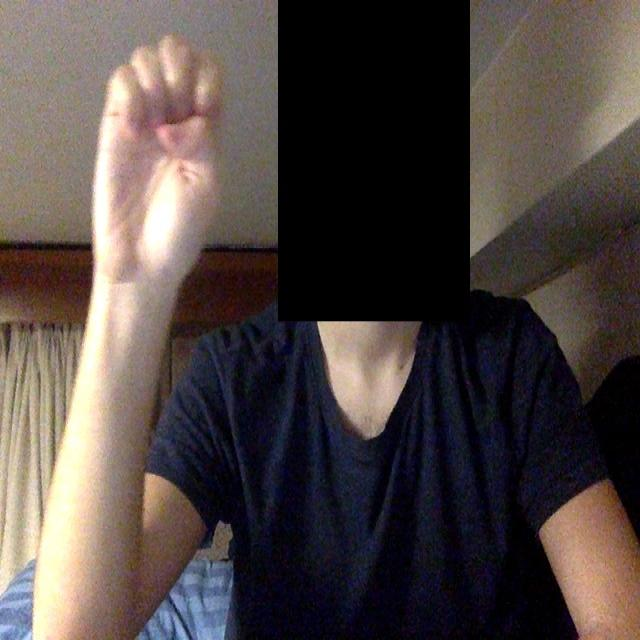E: (83, 40, 273, 377)
